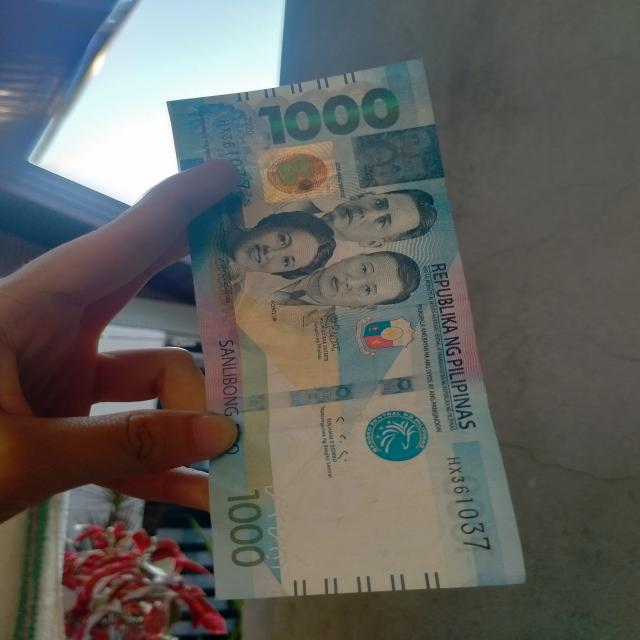concealed_value: (351, 120, 449, 192)
optically_variable_device: (258, 142, 336, 204)
security_thread: (198, 365, 487, 414)
see_through_mark: (260, 471, 298, 577)
serial_number: (450, 444, 502, 573)
watermark: (270, 443, 462, 563)
